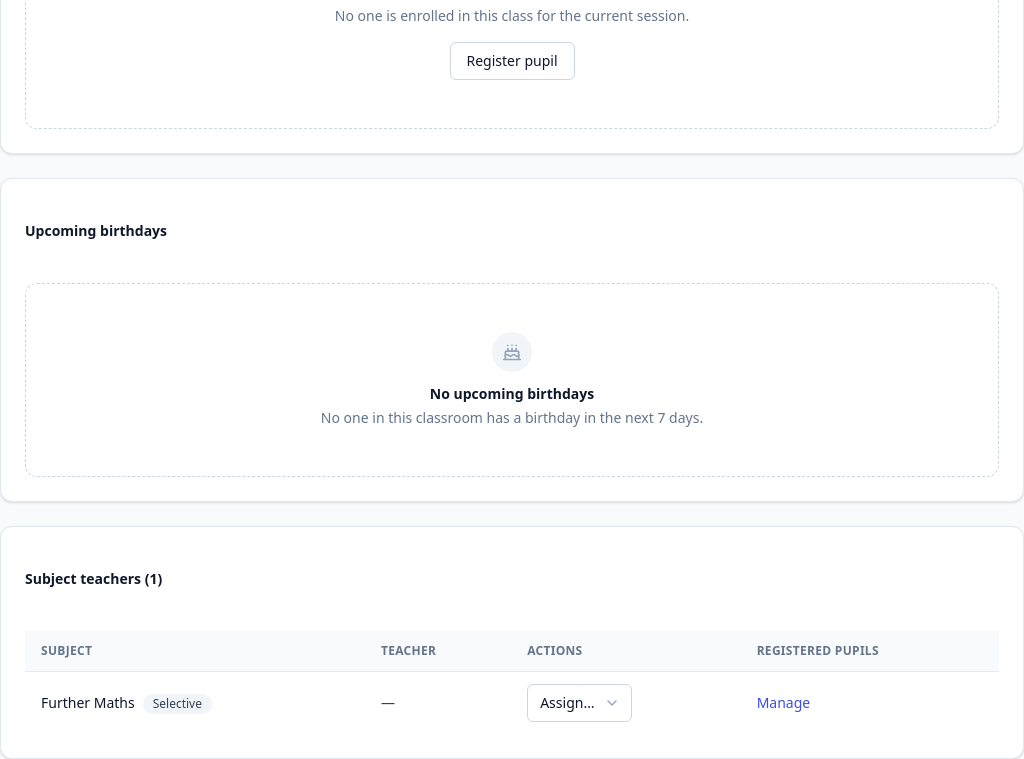
Scenario: ClassDetailPage - class teacher assignment › badges a selective subject and lets an admin manage its registered students
(page scrolled)
expect the text "Selective" is shown: met, box [143,694,212,714]
What coordinates should you click on to do the following:
click the button "Manage"
I would click on:
 (783, 703)
Its box is [757,693,810,713].
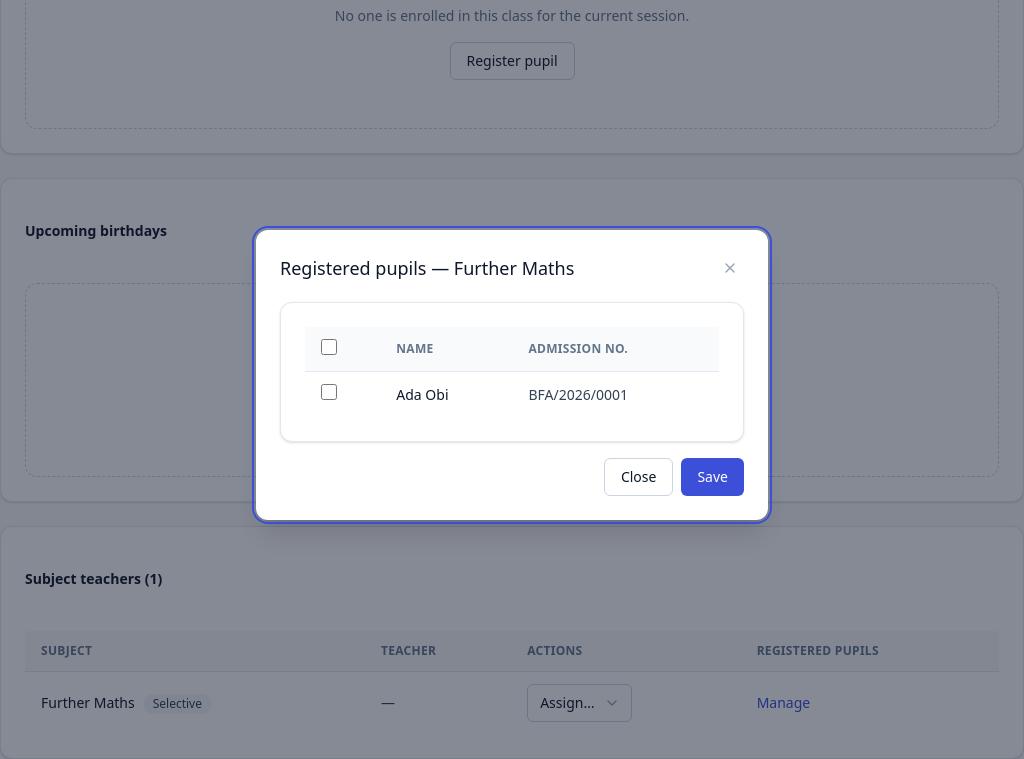
What coordinates should you click on to do the following:
click the checkbox named "Select Ada Obi"
I would click on:
 (329, 392)
Its box is [321,384,337,400].
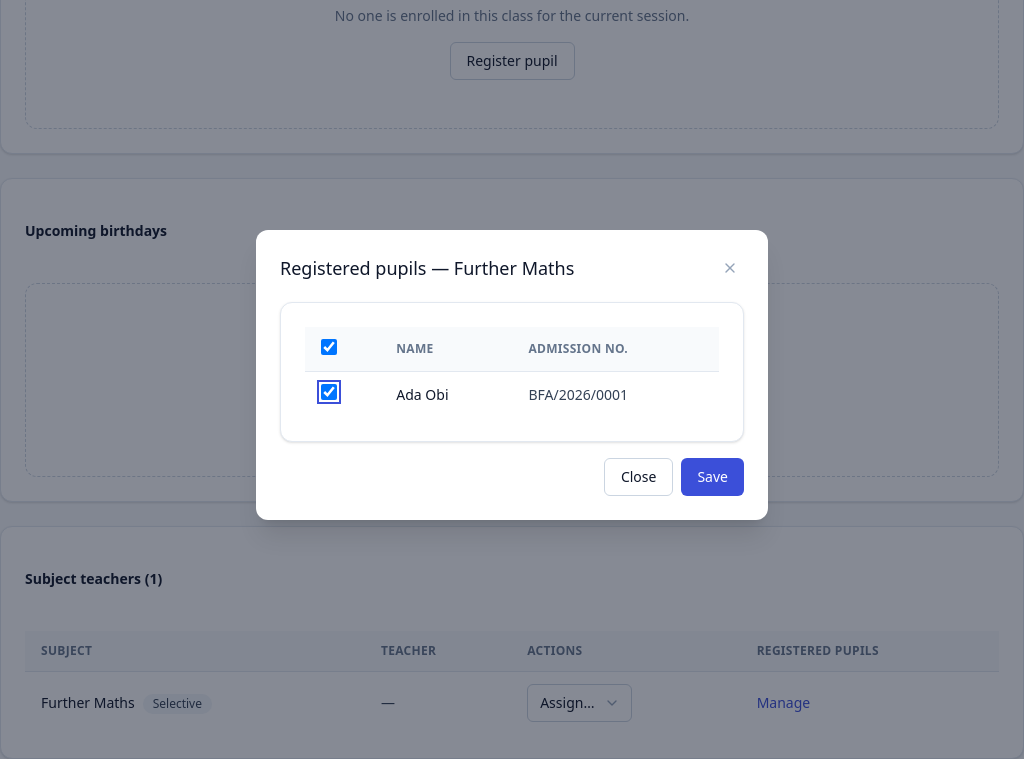
What coordinates should you click on to do the following:
click the button "Save"
I would click on:
 (713, 477)
Its box is [681,458,744,496].
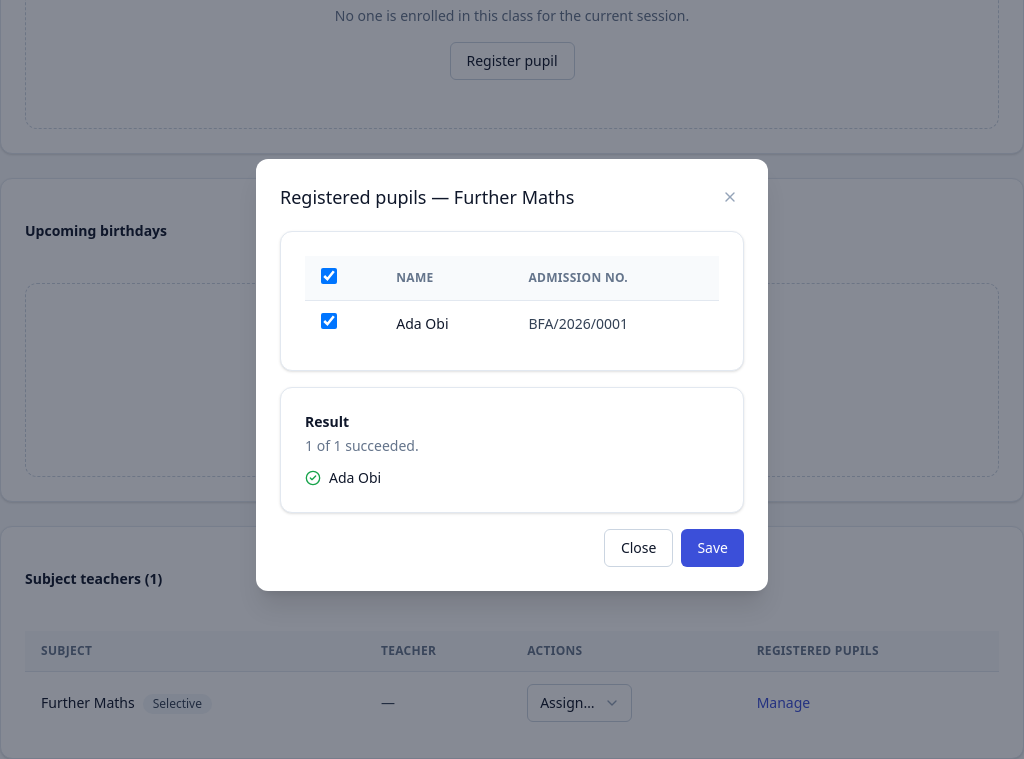
expect the text "1 of 1 succeeded." is shown: met, box [305,436,419,455]
